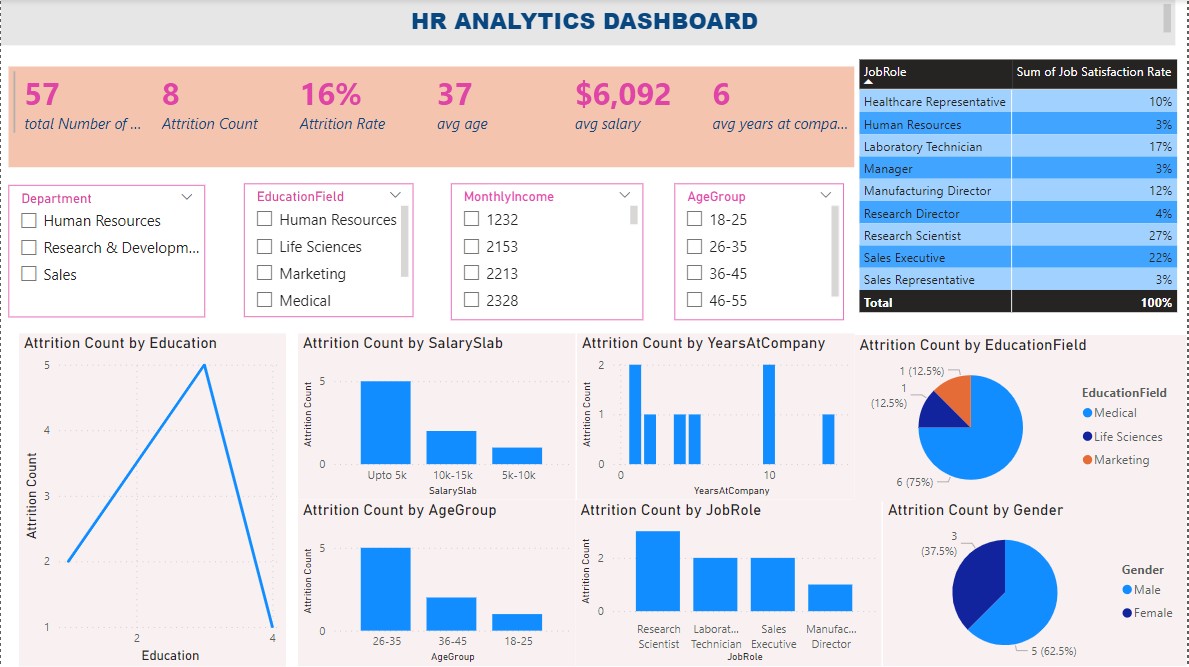

The page's visual inventory and layout, read from the dashboard file:
{"tool":"powerbi","page":{"name":"Page 1","canvas":[1280,720],"ordinal":0},"visuals":[{"type":"multiRowCard","fields":{"Values":["HR_Analytics.total Number of Employees","HR_Analytics.Attrition Count","HR_Analytics.Attrition Rate","HR_Analytics.avg age","HR_Analytics.avg salary","HR_Analytics.avg years at company"]},"box":[8.1,72.8,912.5,108.4],"z":0},{"type":"lineChart","fields":{"Category":["HR_Analytics.Education"],"Y":["HR_Analytics.Attrition Count"]},"box":[19.4,360.8,288,359.2],"z":1000},{"type":"pieChart","fields":{"Category":["HR_Analytics.EducationField"],"Y":["HR_Analytics.Attrition Count"]},"box":[920.6,362.4,359.2,179.6],"z":2000},{"type":"columnChart","fields":{"Category":["HR_Analytics.SalarySlab"],"Y":["HR_Analytics.Attrition Count"]},"box":[320.4,360.8,299.3,179.6],"z":3000},{"type":"columnChart","fields":{"Category":["HR_Analytics.AgeGroup"],"Y":["HR_Analytics.Attrition Count"]},"box":[320.4,540.4,299.3,179.6],"z":4000},{"type":"columnChart","fields":{"Y":["HR_Analytics.Attrition Count"],"Category":["HR_Analytics.YearsAtCompany"]},"box":[621.3,360.8,299.3,179.6],"z":5000},{"type":"columnChart","fields":{"Y":["HR_Analytics.Attrition Count"],"Category":["HR_Analytics.JobRole"]},"box":[619.7,540.4,330.1,179.6],"z":6000},{"type":"pieChart","fields":{"Category":["HR_Analytics.Gender"],"Y":["HR_Analytics.Attrition Count"]},"box":[951.4,540.4,328.4,179.6],"z":7000},{"type":"pivotTable","fields":{"Rows":["HR_Analytics.JobRole"],"Values":["Sum(HR_Analytics.Job Satisfaction Rate)"]},"box":[920.6,59.9,359.2,283.1],"z":8000},{"type":"slicer","fields":{"Values":["HR_Analytics.Department"]},"box":[8.1,200.6,212,142.4],"z":9000},{"type":"slicer","fields":{"Values":["HR_Analytics.EducationField"]},"box":[262.1,199,182.8,144],"z":10000},{"type":"slicer","fields":{"Values":["HR_Analytics.MonthlyIncome"]},"box":[485.4,199,207.1,147.2],"z":11000},{"type":"slicer","fields":{"Values":["HR_Analytics.AgeGroup"]},"box":[726.5,199,182.8,147.2],"z":12000},{"type":"textbox","box":[0,0,1266.9,50.2],"z":13000}]}

Visuals, with their boxes in screenshot pixels (x1, y1, x2, y2), scaled from the page's 1280x720 canvas onto the 1189x667 screenshot:
multiRowCard - HR_Analytics.total Number of Employees x HR_Analytics.Attrition Count: {"x1": 8, "y1": 67, "x2": 855, "y2": 168}
lineChart - HR_Analytics.Education x HR_Analytics.Attrition Count: {"x1": 18, "y1": 334, "x2": 286, "y2": 666}
pieChart - HR_Analytics.EducationField x HR_Analytics.Attrition Count: {"x1": 855, "y1": 336, "x2": 1188, "y2": 502}
columnChart - HR_Analytics.SalarySlab x HR_Analytics.Attrition Count: {"x1": 298, "y1": 334, "x2": 576, "y2": 501}
columnChart - HR_Analytics.AgeGroup x HR_Analytics.Attrition Count: {"x1": 298, "y1": 501, "x2": 576, "y2": 666}
columnChart - HR_Analytics.Attrition Count x HR_Analytics.YearsAtCompany: {"x1": 577, "y1": 334, "x2": 855, "y2": 501}
columnChart - HR_Analytics.Attrition Count x HR_Analytics.JobRole: {"x1": 576, "y1": 501, "x2": 882, "y2": 666}
pieChart - HR_Analytics.Gender x HR_Analytics.Attrition Count: {"x1": 884, "y1": 501, "x2": 1188, "y2": 666}
pivotTable - HR_Analytics.JobRole x Sum(HR_Analytics.Job Satisfaction Rate): {"x1": 855, "y1": 55, "x2": 1188, "y2": 318}
slicer - HR_Analytics.Department: {"x1": 8, "y1": 186, "x2": 204, "y2": 318}
slicer - HR_Analytics.EducationField: {"x1": 243, "y1": 184, "x2": 413, "y2": 318}
slicer - HR_Analytics.MonthlyIncome: {"x1": 451, "y1": 184, "x2": 643, "y2": 321}
slicer - HR_Analytics.AgeGroup: {"x1": 675, "y1": 184, "x2": 845, "y2": 321}
textbox: {"x1": 0, "y1": 0, "x2": 1177, "y2": 47}
